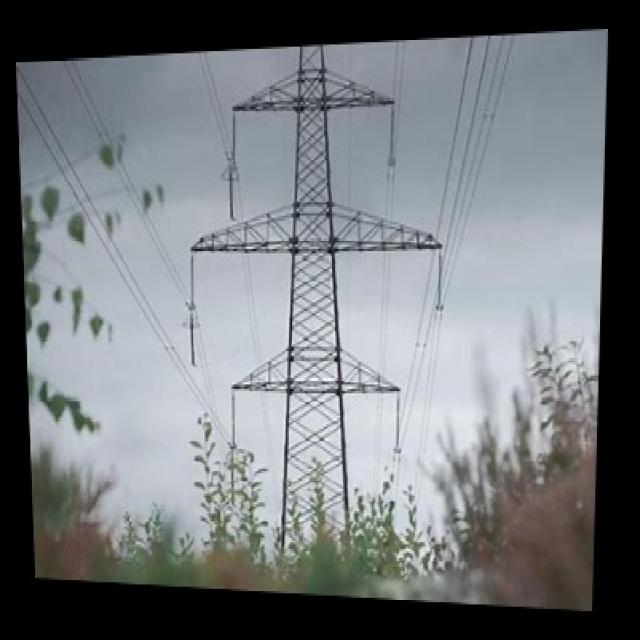utility poles: (186, 349, 430, 578)
